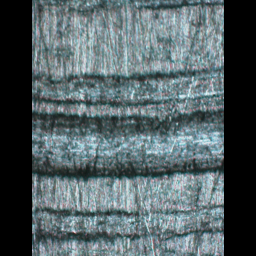d: (32, 68, 223, 181), (32, 202, 223, 251)
